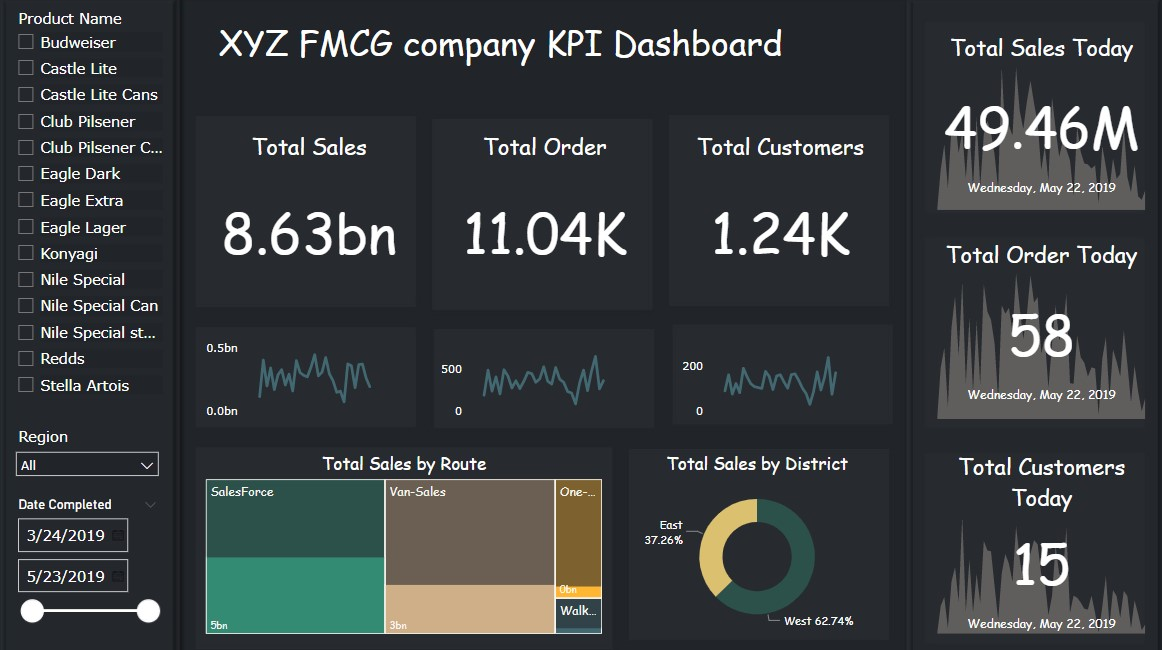

The dashboard page shown, as its layout file describes it:
{"tool":"powerbi","page":{"name":"KPI Dashboard","canvas":[1280,720],"ordinal":0},"visuals":[{"type":"card","title":"Total Sales","fields":{"Values":["Export.Total Sales"]},"box":[222.5,148.3,236.2,184],"z":0},{"type":"card","title":"Total Order","fields":{"Values":["Export.Total Order"]},"box":[480.7,148.3,237.6,184],"z":1000},{"type":"card","title":"Total Customers","fields":{"Values":["Export.Unique Customer"]},"box":[745.8,148.3,225.2,184],"z":2000},{"type":"lineChart","title":"Total Sales","fields":{"Y":["Export.Total Sales"],"Category":["Export.Date Completed.Variation.Date Hierarchy.Day"]},"box":[222.5,359.8,236.2,109.9],"z":3000},{"type":"kpi","title":"Total Sales Today","fields":{"TrendLine":["Export.Date Time Completed"],"Indicator":["Export.Total Sales"]},"box":[1025.9,39.8,239,200.5],"z":4000},{"type":"kpi","title":"Total Order Today","fields":{"TrendLine":["Export.Date Time Completed"],"Indicator":["Export.Total Order"]},"box":[1025.9,266.4,239,203.3],"z":5000},{"type":"kpi","title":"Total Customers Today","fields":{"TrendLine":["Export.Date Time Completed"],"Indicator":["Export.Unique Customer"]},"box":[1025.9,499.9,239,206],"z":6000},{"type":"lineChart","title":"Total Sales","fields":{"Y":["Export.Total Order"],"Category":["Export.Date Completed.Variation.Date Hierarchy.Day"]},"box":[480.7,368.1,237.6,101.6],"z":7000},{"type":"lineChart","title":"Total Sales","fields":{"Y":["Export.Unique Customer"],"Category":["Export.Date Completed.Variation.Date Hierarchy.Day"]},"box":[745.8,368.1,225.2,101.6],"z":8000},{"type":"treemap","title":"Total Sales by Route","fields":{"Values":["Export.Total Sales"],"Group":["Export.Route_Name"]},"box":[222.5,499.9,445,206],"z":9000},{"type":"donutChart","fields":{"Y":["Export.Total Sales"],"Category":["Export.District"]},"box":[694.9,499.9,276.1,206],"z":10000},{"type":"slicer","fields":{"Values":["Export.Product_Name"]},"box":[8.2,9.6,177.2,450.5],"z":11000},{"type":"slicer","fields":{"Values":["Export.region"]},"box":[8.2,469.7,177.2,83.8],"z":12000},{"type":"slicer","fields":{"Values":["Export.Date Completed"]},"box":[8.2,545.2,177.2,159.3],"z":12001},{"type":"textbox","box":[236.2,20.6,631.8,83.8],"z":12002}]}

Visuals, with their boxes in screenshot pixels (x1, y1, x2, y2), scaled from the page's 1280x720 canvas onto the 1162x650 screenshot:
"Total Sales" card: pyautogui.locateOnScreen(202, 134, 416, 300)
"Total Order" card: pyautogui.locateOnScreen(436, 134, 652, 300)
"Total Customers" card: pyautogui.locateOnScreen(677, 134, 881, 300)
"Total Sales" lineChart: pyautogui.locateOnScreen(202, 325, 416, 424)
"Total Sales Today" kpi: pyautogui.locateOnScreen(931, 36, 1148, 217)
"Total Order Today" kpi: pyautogui.locateOnScreen(931, 240, 1148, 424)
"Total Customers Today" kpi: pyautogui.locateOnScreen(931, 451, 1148, 637)
"Total Sales" lineChart: pyautogui.locateOnScreen(436, 332, 652, 424)
"Total Sales" lineChart: pyautogui.locateOnScreen(677, 332, 881, 424)
"Total Sales by Route" treemap: pyautogui.locateOnScreen(202, 451, 606, 637)
donutChart - Export.Total Sales x Export.District: pyautogui.locateOnScreen(631, 451, 881, 637)
slicer - Export.Product_Name: pyautogui.locateOnScreen(7, 9, 168, 415)
slicer - Export.region: pyautogui.locateOnScreen(7, 424, 168, 500)
slicer - Export.Date Completed: pyautogui.locateOnScreen(7, 492, 168, 636)
textbox: pyautogui.locateOnScreen(214, 19, 788, 94)
